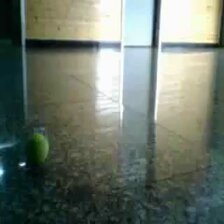tennis: (24, 136, 49, 168)
